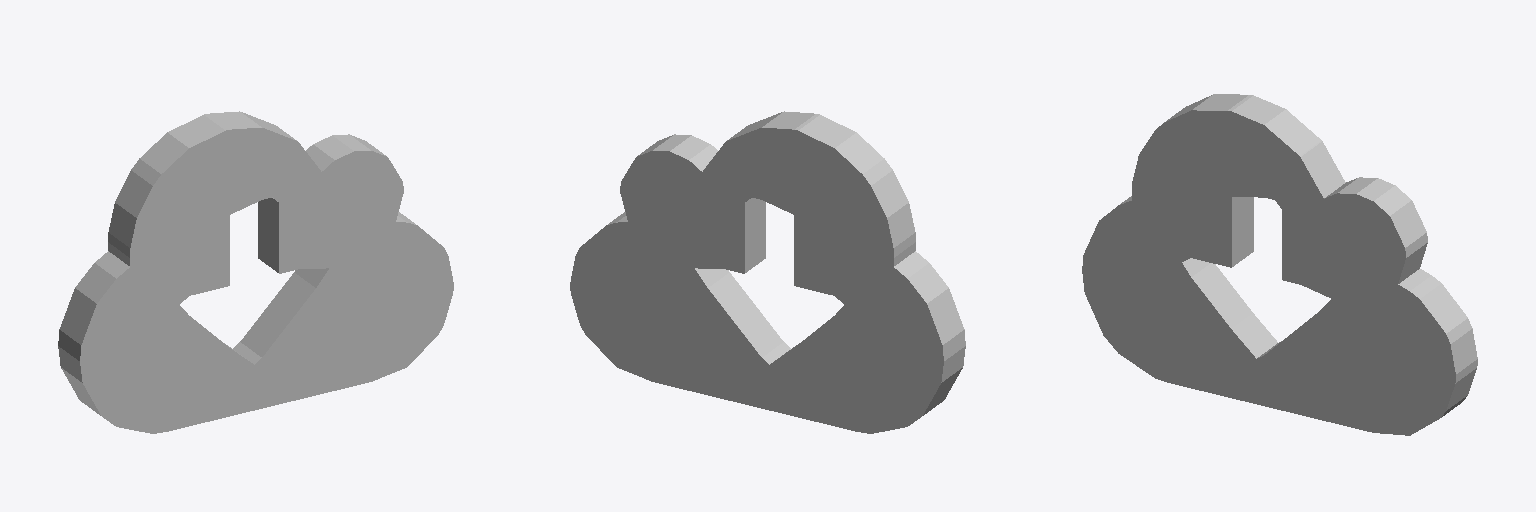
Rendered from fa-cloud-download.obj.
The picture shows the model from 3 angles: view 1: azimuth 30°, elevation 25°; view 2: azimuth 150°, elevation 25°; view 3: azimuth 330°, elevation 25°; orthographic projection.
Bounding box in the file's own units: 1.13 × 0.8315 × 0.1152.